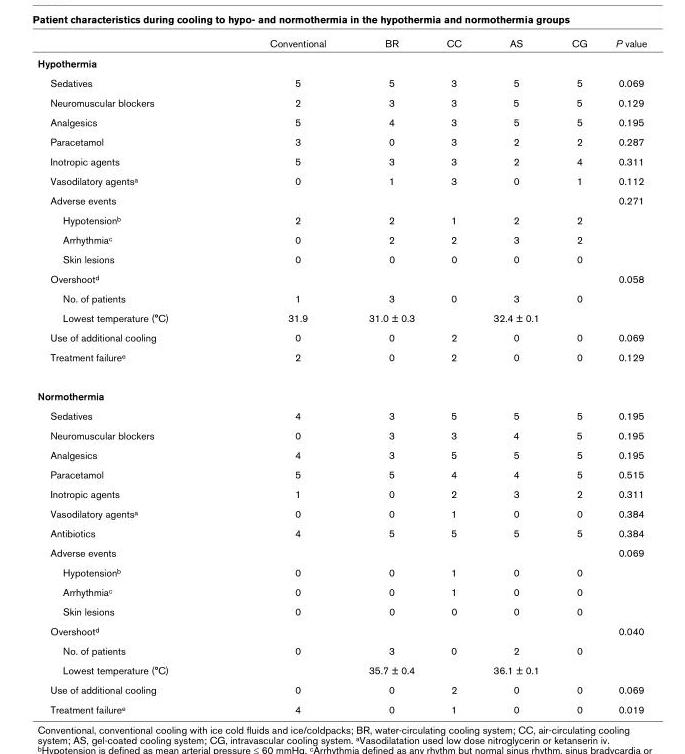table: (36, 36, 646, 714)
table column: (36, 36, 218, 714), (218, 36, 346, 714), (346, 36, 429, 714), (476, 36, 554, 714), (429, 36, 476, 714), (554, 36, 600, 714), (600, 36, 646, 714)
table column header: (36, 36, 646, 52)
table projected row header: (36, 376, 646, 405), (36, 52, 646, 72)
table row: (36, 346, 646, 376), (36, 376, 646, 405), (36, 52, 646, 72), (36, 72, 646, 92), (36, 111, 646, 131), (36, 131, 646, 151), (36, 170, 646, 190), (36, 209, 646, 229), (36, 248, 646, 268), (36, 268, 646, 288), (36, 307, 646, 327), (36, 405, 646, 425), (36, 444, 646, 464), (36, 483, 646, 503), (36, 503, 646, 523), (36, 542, 646, 562), (36, 581, 646, 601), (36, 620, 646, 640), (36, 659, 646, 679), (36, 679, 646, 699), (36, 92, 646, 111), (36, 151, 646, 170), (36, 190, 646, 209), (36, 229, 646, 248), (36, 288, 646, 307), (36, 327, 646, 346), (36, 425, 646, 444), (36, 464, 646, 483), (36, 523, 646, 542), (36, 562, 646, 581), (36, 601, 646, 620), (36, 640, 646, 659), (36, 36, 646, 52), (36, 699, 646, 714)
